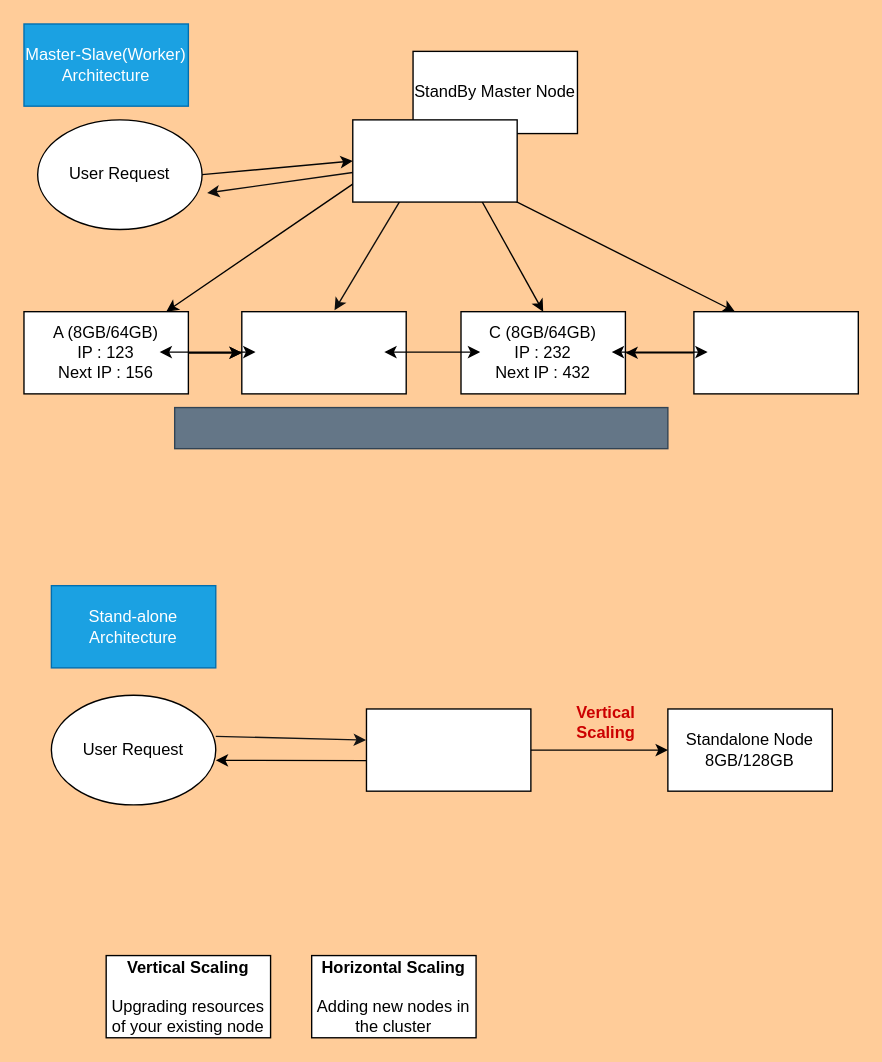
Image size: 882x1062. Some labels were removed from this diagram. Each missing label, with the centre of its shape:
"B (8GB/64GB) IP : 156 Next IP : 232" belongs at (323,352).
"Cluster of Worker Nodes" belongs at (420,427).
"D (8GB/64GB) IP : 432" belongs at (775,352).
"Master Node 8GB/64GB" belongs at (434,160).
"Standalone Node 8GB/64GB" belongs at (448,749).
